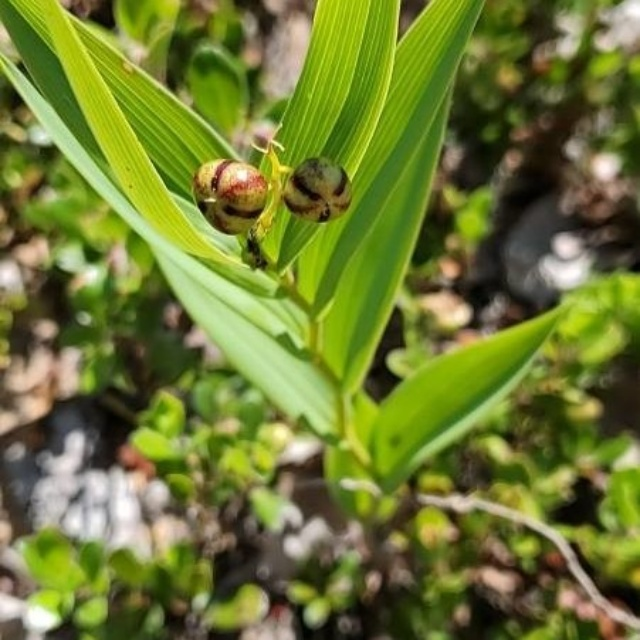obstacle: (18, 16, 524, 471)
